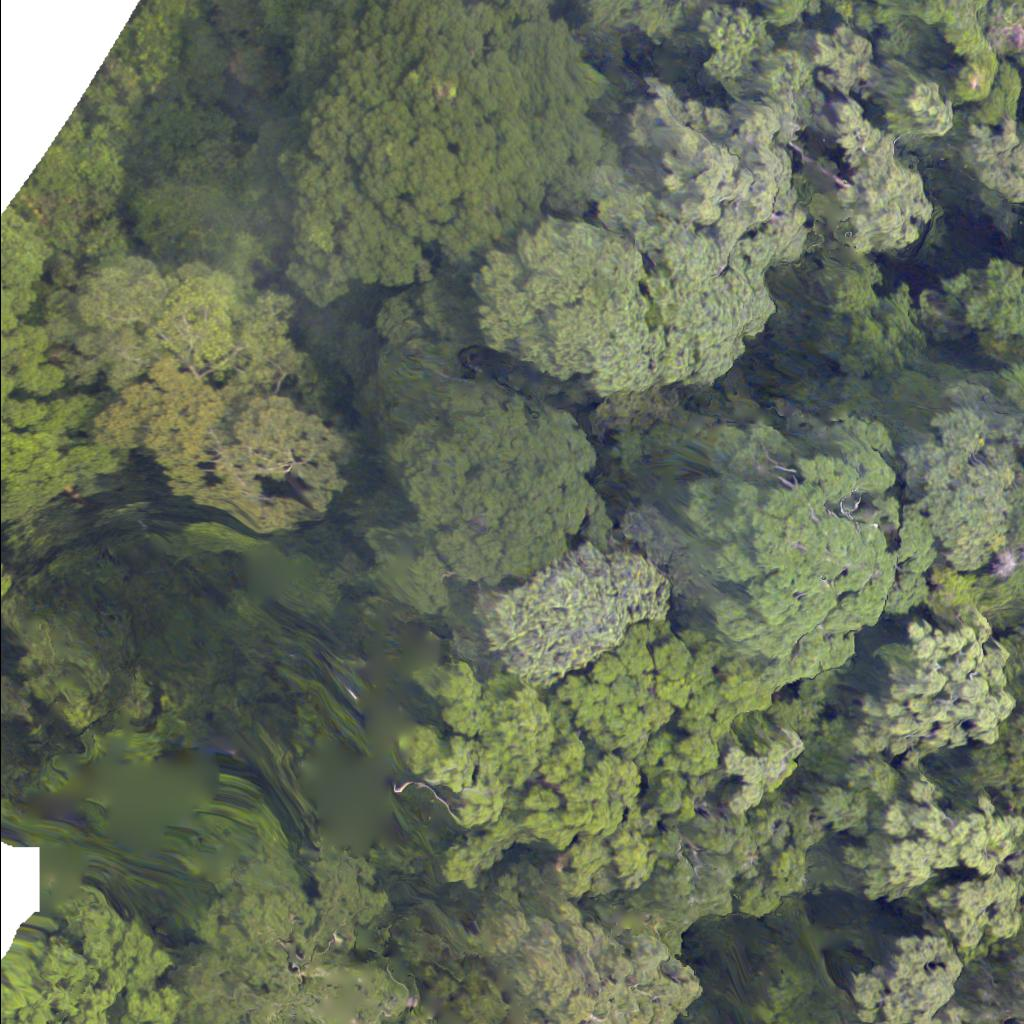crown: (412, 625, 765, 901), (260, 0, 598, 282), (626, 23, 953, 274), (603, 414, 916, 675), (381, 383, 632, 594), (422, 909, 720, 1023), (839, 786, 1023, 957), (852, 623, 1023, 777), (897, 403, 1016, 571), (845, 931, 973, 1023), (1000, 408, 1023, 513), (974, 974, 1023, 1023), (999, 523, 1023, 620)
